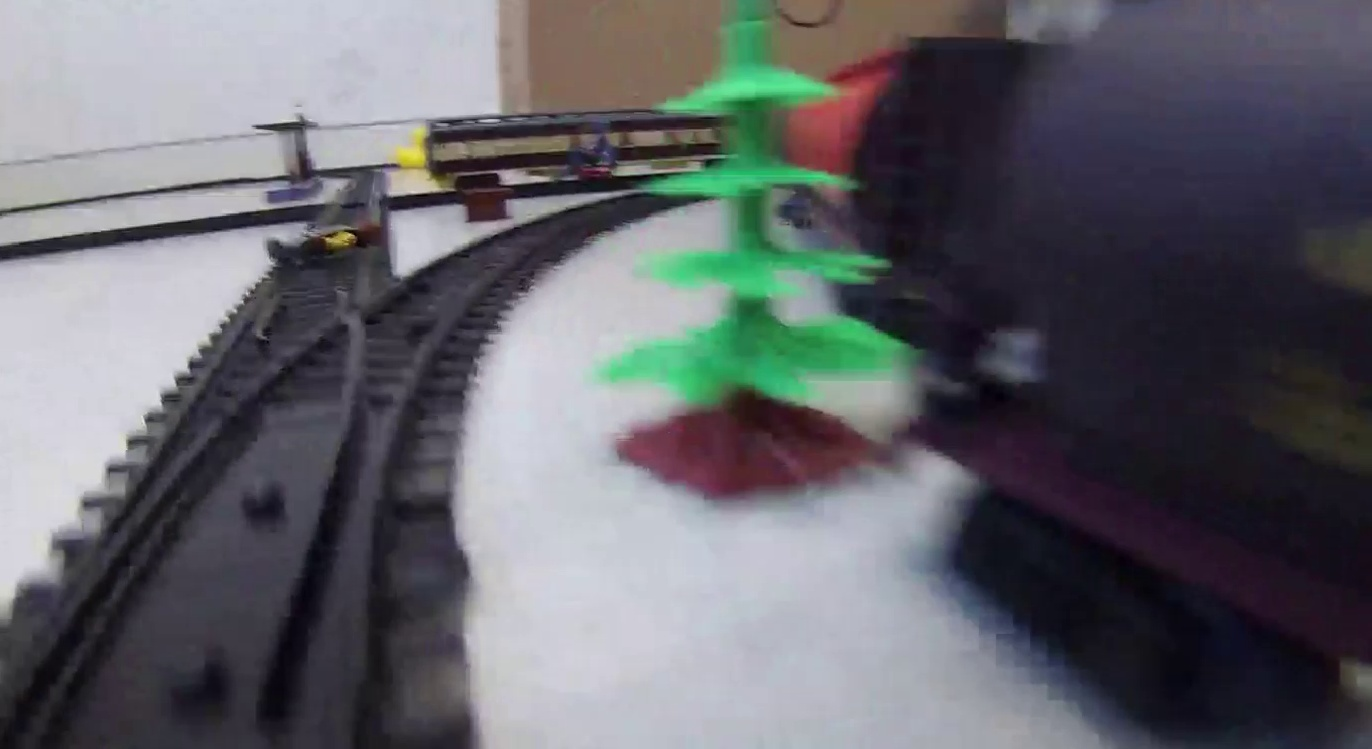box: (463, 185, 513, 222)
tree: (605, 3, 895, 504)
